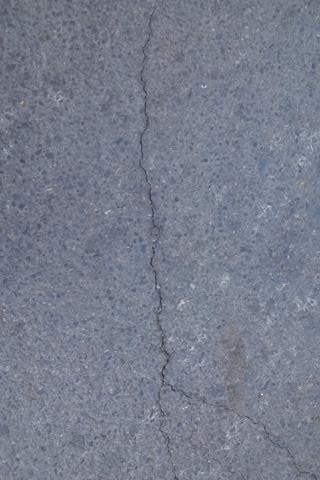A: (136, 16, 300, 475)
